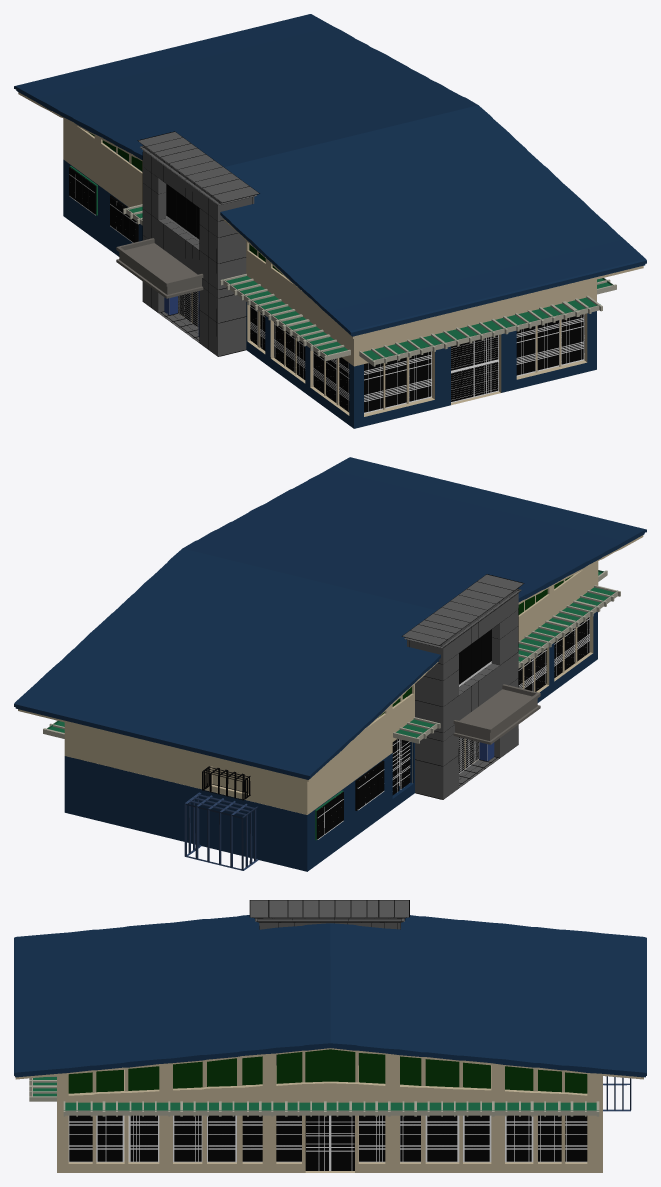
Rendered from cMultiPurpose.glb.
The picture shows the model from 3 angles, top to bottom: view 1: azimuth 30°, elevation 25°; view 2: azimuth 150°, elevation 25°; view 3: azimuth 270°, elevation 25°; orthographic projection. The views are drawn at different scales.
Visible parts, largest first — view 1: MULTIPURPOSE HALL; view 2: MULTIPURPOSE HALL; view 3: MULTIPURPOSE HALL.
Part boxes in pixels (x1,y1,x2,y2): MULTIPURPOSE HALL: [14, 14, 646, 428]; MULTIPURPOSE HALL: [14, 457, 646, 871]; MULTIPURPOSE HALL: [14, 900, 646, 1172].
Bounding box in the file's own units: 4.63 × 2.09 × 8.06.
